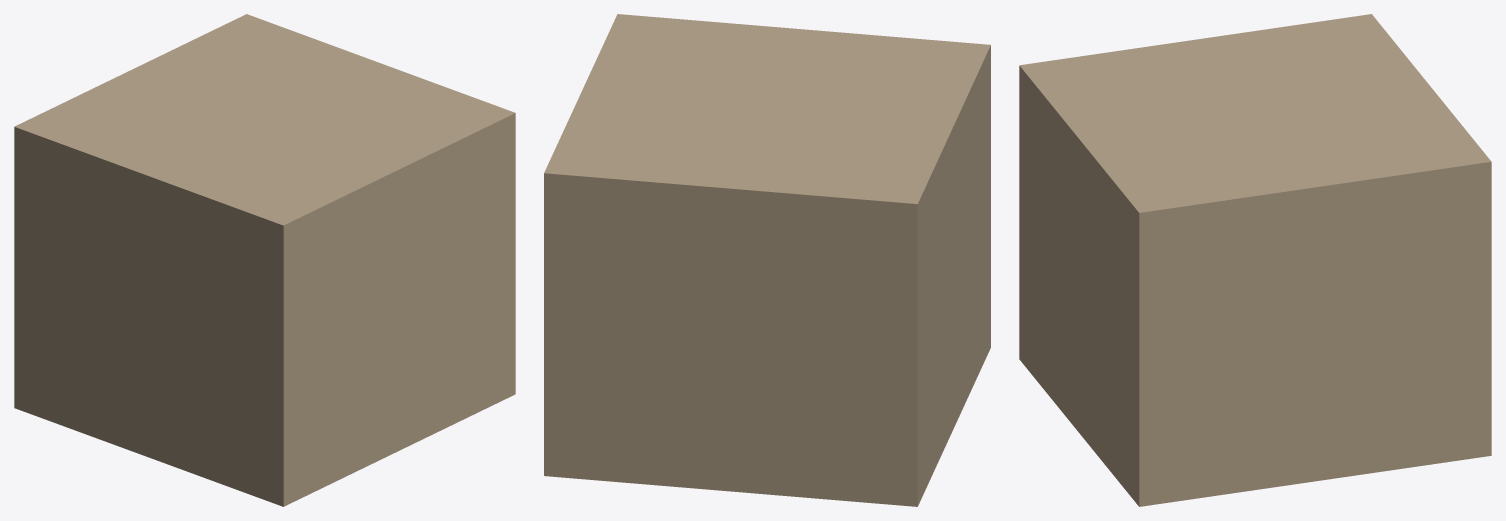
File: bld_106796628.dae
3 renders of one model, left to right at view 1: azimuth 30°, elevation 25°; view 2: azimuth 150°, elevation 25°; view 3: azimuth 270°, elevation 25°, orthographic. The views are drawn at different scales.
Visible parts, largest first — view 1: bld_106796628; view 2: bld_106796628; view 3: bld_106796628.
Part boxes in pixels (x1,y1,x2,y2): bld_106796628: (14, 14, 515, 506); bld_106796628: (544, 14, 990, 506); bld_106796628: (1019, 14, 1491, 506).
Size of the model in its own units: 11.61 by 11.65 by 8.
